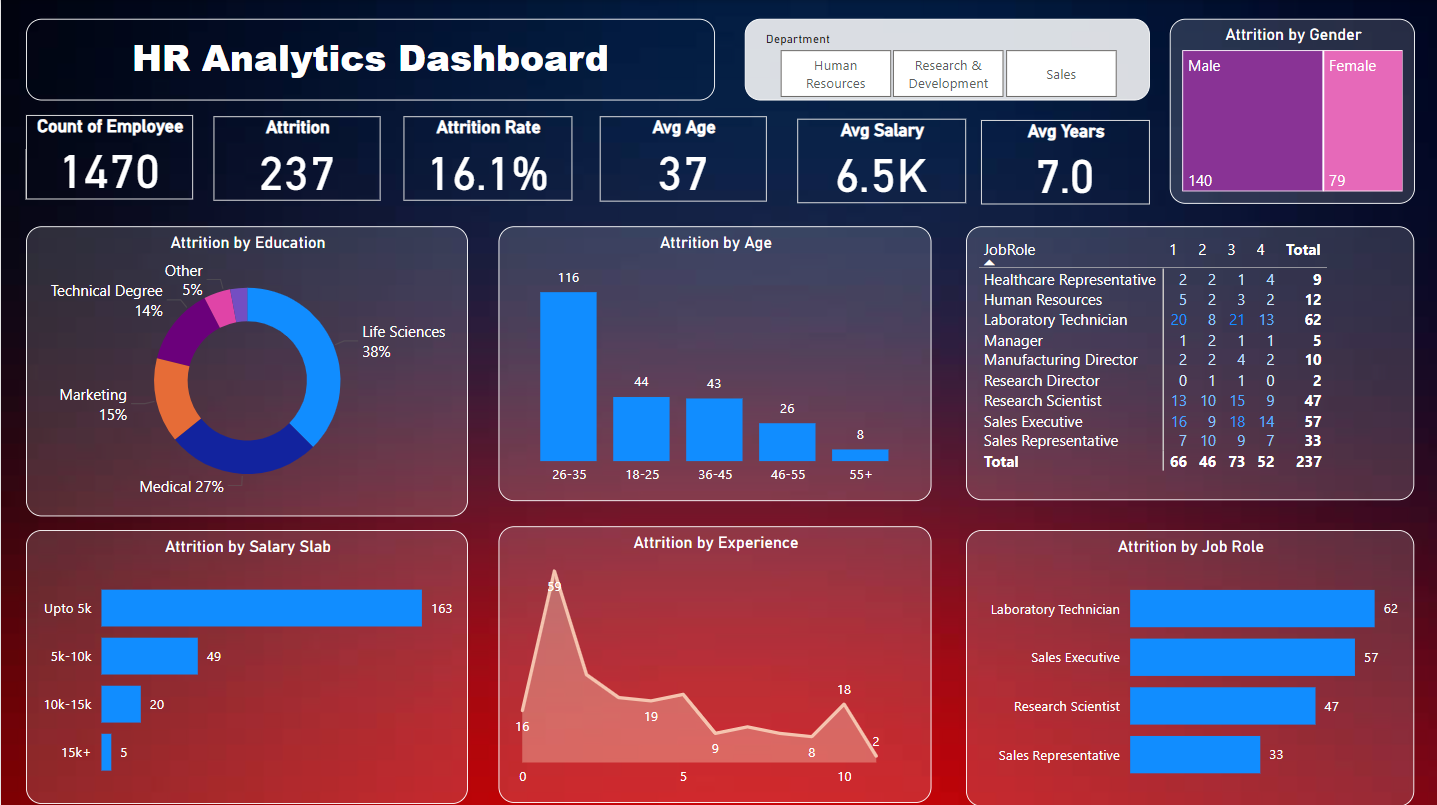

This screenshot's page, from the dashboard's own definition file:
{"tool":"powerbi","page":{"name":"Page 1","canvas":[1280,720],"ordinal":0},"visuals":[{"type":"card","title":"Count of Employee","fields":{"Values":["CountNonNull(HR_Analytics.EmpID)"]},"box":[21.9,102.7,148.8,75.1],"z":0},{"type":"card","title":"Attrition","fields":{"Values":["Sum(HR_Analytics.AttritionCount)"]},"box":[189.1,104,148.8,75.1],"z":1000},{"type":"card","title":"Attrition Rate","fields":{"Values":["HR_Analytics.AttritionRate"]},"box":[359,104,150.1,75.1],"z":2000},{"type":"card","title":"Avg Age","fields":{"Values":["Avg(HR_Analytics.Age)"]},"box":[532.8,104,148.8,76.4],"z":3000},{"type":"card","title":"Avg Salary","fields":{"Values":["Avg(HR_Analytics.MonthlyIncome)"]},"box":[709.3,105.3,150.1,75.1],"z":4000},{"type":"card","title":"Avg Years","fields":{"Values":["Avg(HR_Analytics.YearsAtCompany)"]},"box":[872.6,106.7,150.1,75.1],"z":5000},{"type":"donutChart","title":"Attrition by Education","fields":{"Category":["HR_Analytics.EducationField"],"Y":["Sum(HR_Analytics.AttritionCount)"]},"box":[21.9,201.5,393.7,258.1],"z":6000},{"type":"columnChart","title":"Attrition by Age","fields":{"Category":["HR_Analytics.AgeGroup"],"Y":["Sum(HR_Analytics.AttritionCount)"]},"box":[443.3,201.5,385.8,244.9],"z":7000},{"type":"pivotTable","fields":{"Rows":["HR_Analytics.JobRole"],"Columns":["HR_Analytics.JobSatisfaction"],"Values":["Sum(HR_Analytics.AttritionCount)"]},"box":[859.4,201.5,399,243.6],"z":8000},{"type":"barChart","title":"Attrition by Age","fields":{"Category":["HR_Analytics.SalarySlab"],"Y":["Sum(HR_Analytics.AttritionCount)"]},"box":[21.9,471.4,393.7,243.6],"z":9000},{"type":"barChart","title":"Attrition by Age","fields":{"Category":["HR_Analytics.JobRole"],"Y":["Sum(HR_Analytics.AttritionCount)"]},"box":[859.4,471.4,399,246.3],"z":10000},{"type":"areaChart","title":"Attrition by Age","fields":{"Category":["HR_Analytics.YearsAtCompany"],"Y":["Sum(HR_Analytics.AttritionCount)"]},"box":[443.3,468.8,385.8,246.3],"z":11000},{"type":"treemap","title":"Attrition by Age","fields":{"Group":["HR_Analytics.Gender"],"Values":["Sum(HR_Analytics.AttritionCount)"]},"box":[1040.3,17.1,218.6,164.6],"z":12000},{"type":"slicer","fields":{"Values":["HR_Analytics.Department"]},"box":[662.4,17.1,360.8,72.4],"z":13000},{"type":"textbox","box":[22.4,17.1,613.7,72.4],"z":13001}]}

Visuals, with their boxes in screenshot pixels (x1, y1, x2, y2), scaled from the page's 1280x720 canvas onto the 1437x805 screenshot:
"Count of Employee" card: (x1=25, y1=115, x2=192, y2=199)
"Attrition" card: (x1=212, y1=116, x2=379, y2=200)
"Attrition Rate" card: (x1=403, y1=116, x2=572, y2=200)
"Avg Age" card: (x1=598, y1=116, x2=765, y2=202)
"Avg Salary" card: (x1=796, y1=118, x2=965, y2=202)
"Avg Years" card: (x1=980, y1=119, x2=1148, y2=203)
"Attrition by Education" donutChart: (x1=25, y1=225, x2=467, y2=514)
"Attrition by Age" columnChart: (x1=498, y1=225, x2=931, y2=499)
pivotTable - HR_Analytics.JobRole x HR_Analytics.JobSatisfaction: (x1=965, y1=225, x2=1413, y2=498)
"Attrition by Age" barChart: (x1=25, y1=527, x2=467, y2=799)
"Attrition by Age" barChart: (x1=965, y1=527, x2=1413, y2=802)
"Attrition by Age" areaChart: (x1=498, y1=524, x2=931, y2=800)
"Attrition by Age" treemap: (x1=1168, y1=19, x2=1413, y2=203)
slicer - HR_Analytics.Department: (x1=744, y1=19, x2=1149, y2=100)
textbox: (x1=25, y1=19, x2=714, y2=100)
